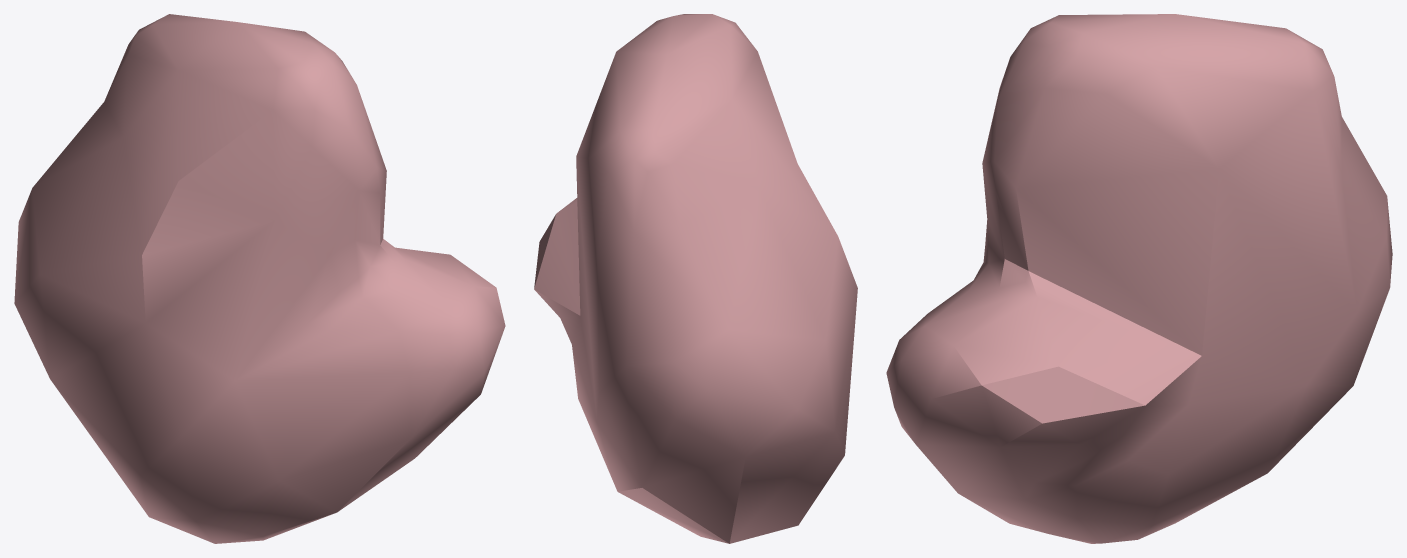
The model's file is fma14964_fj2596.glb.
The picture shows the model from 3 angles, left to right: view 1: azimuth 30°, elevation 25°; view 2: azimuth 150°, elevation 25°; view 3: azimuth 270°, elevation 25°; orthographic projection. The views are drawn at different scales.
Visible parts, largest first — view 1: FMA14964_FJ2596; view 2: FMA14964_FJ2596; view 3: FMA14964_FJ2596.
Part boxes in pixels (x1,y1,x2,y2): FMA14964_FJ2596: (14, 14, 505, 543); FMA14964_FJ2596: (534, 14, 857, 543); FMA14964_FJ2596: (886, 14, 1392, 543).
Size of the model in its own units: 0.0277 by 0.035 by 0.0298.
